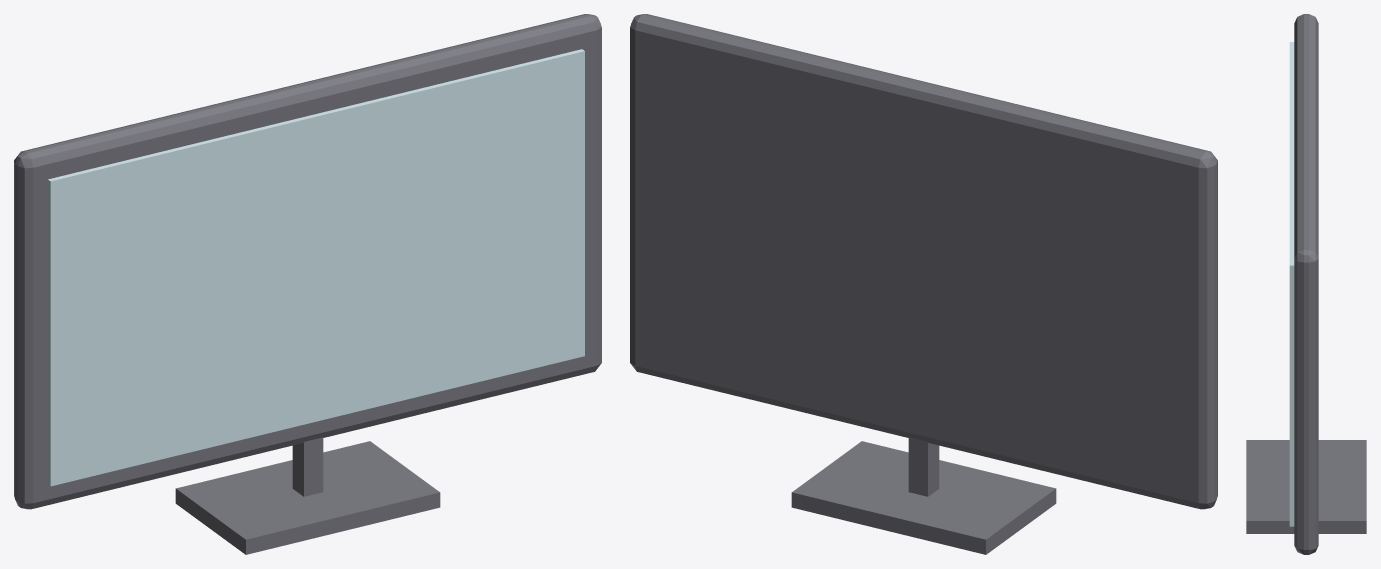
Rendered from cozy-home-interiors-tv-98070018.glb.
3 views of the same model, side by side, from view 1: azimuth 30°, elevation 25°; view 2: azimuth 150°, elevation 25°; view 3: azimuth 270°, elevation 25° (orthographic). The views are drawn at different scales.
Parts seen in each view (by area): view 1: tv; view 2: tv; view 3: tv.
Boxes of the visible parts, left/top/right/bottom form: tv: left=14, top=14, right=601, bottom=554; tv: left=630, top=14, right=1217, bottom=554; tv: left=1246, top=14, right=1366, bottom=554.
Bounding box in the file's own units: 1.2 × 0.8299 × 0.2499.
